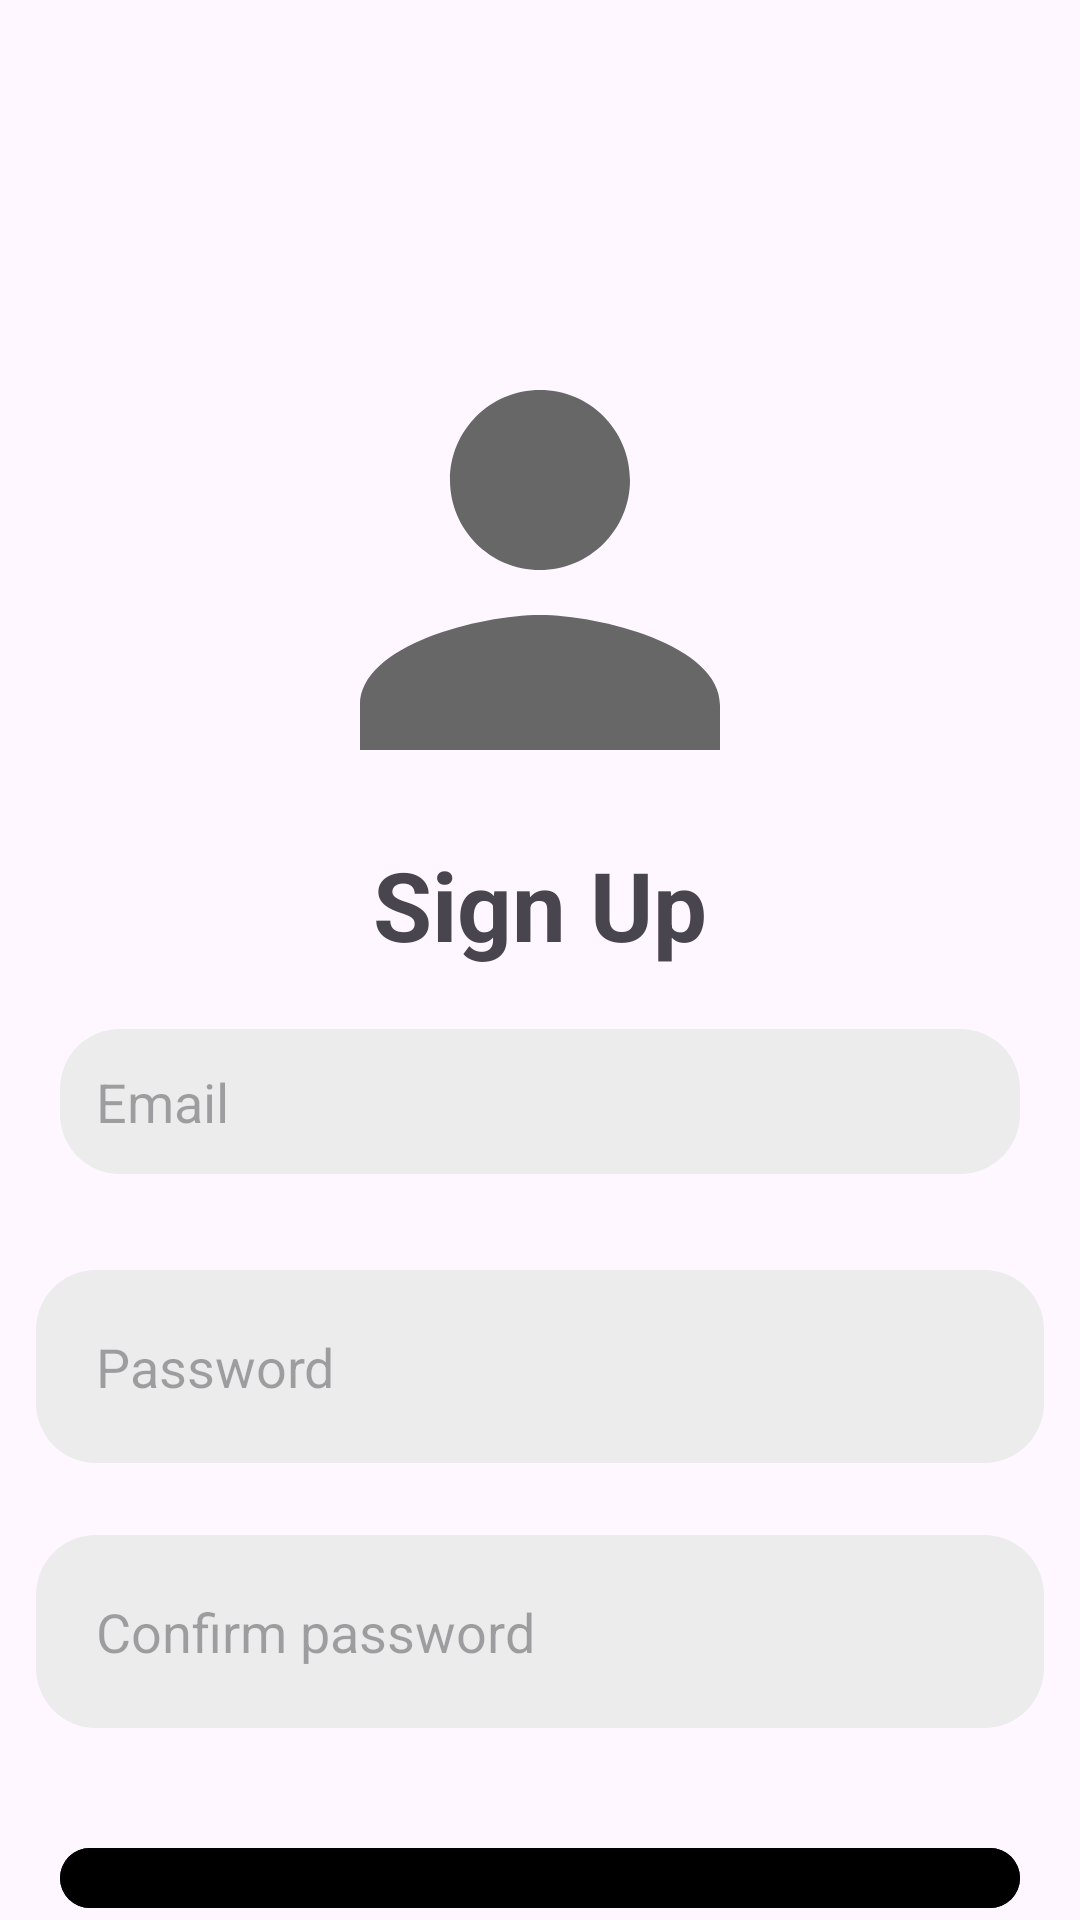

Named icons in this screenshot (1080w x 1920h) and their bounding boxes, (x1, y1, x2, y2):
profile: (360, 390, 720, 750)
